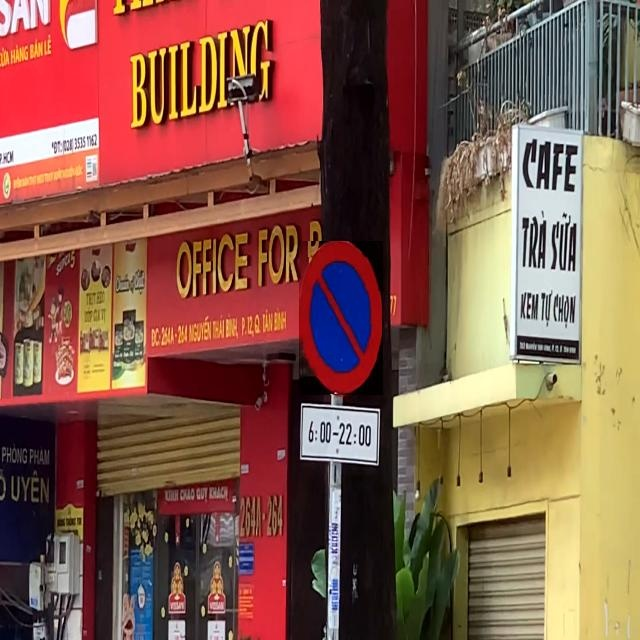bien_cam: (300, 242, 384, 396)
